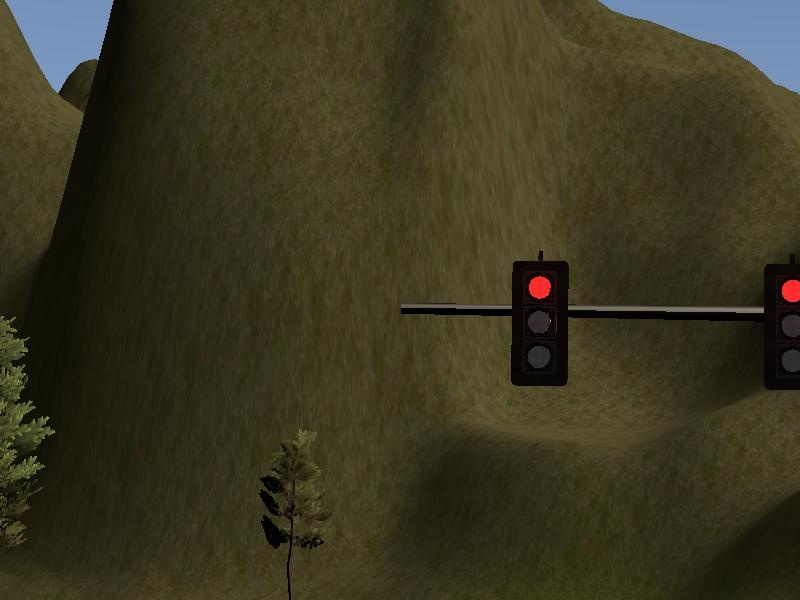RED: (513, 262, 569, 385), (763, 265, 800, 388)
